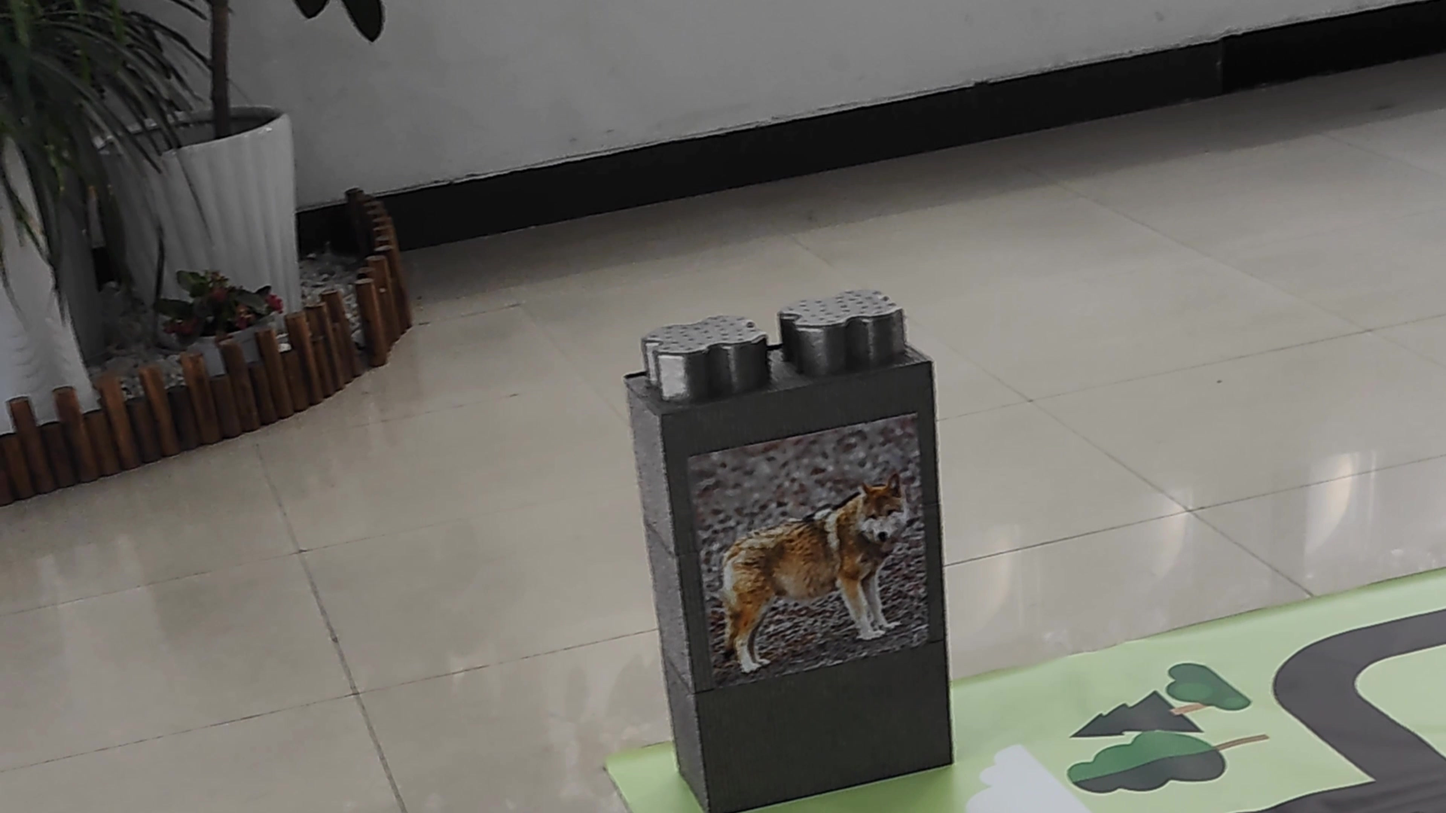wolf: (698, 444, 942, 679)
